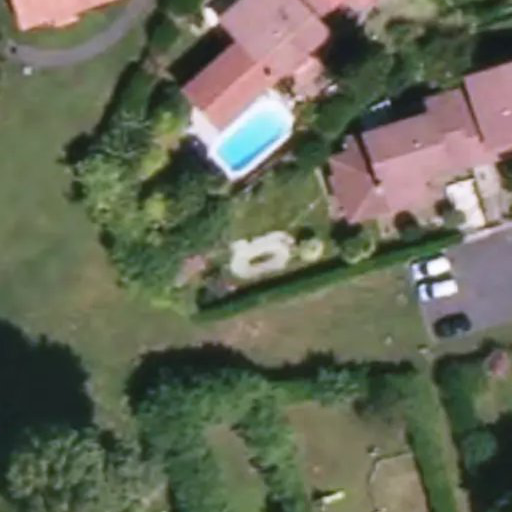pool: (220, 239, 292, 244)
